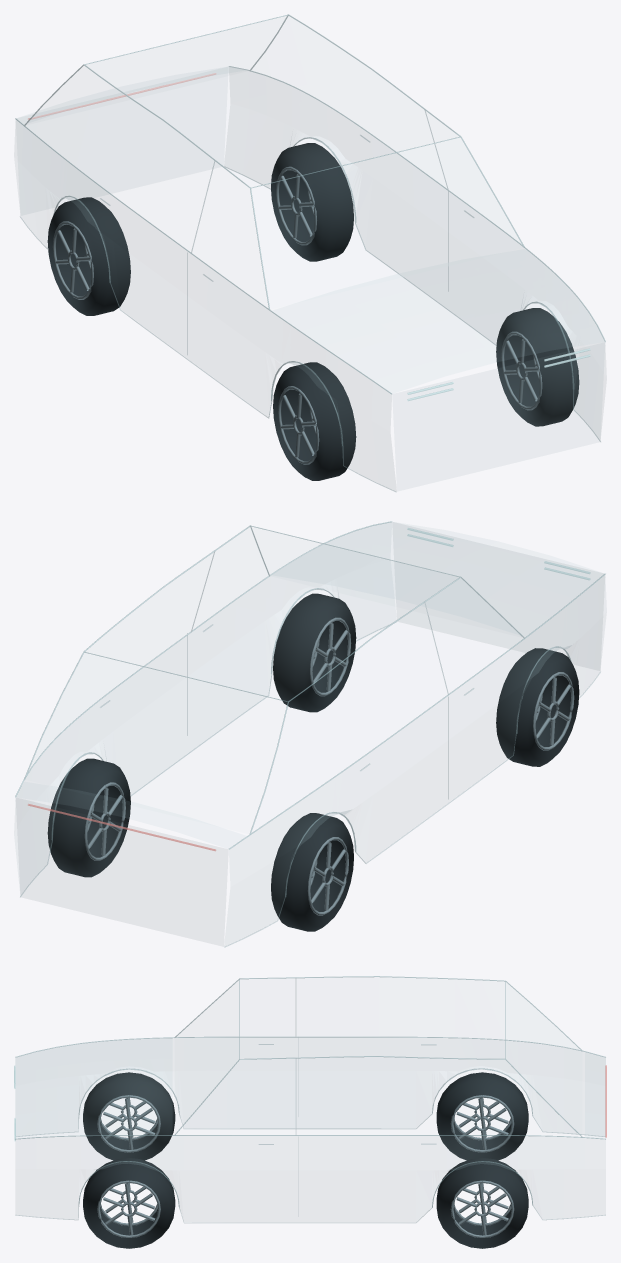
The model's file is genesis_gv80.glb.
3 renders of one model, top to bottom at view 1: azimuth 30°, elevation 25°; view 2: azimuth 150°, elevation 25°; view 3: azimuth 270°, elevation 25°, orthographic. The views are drawn at different scales.
Parts seen in each view (by area): view 1: shell_body, shell_tyre_right_front, shell_tyre_right_rear, shell_tyre_left_rear, shell_tyre_left_front, shell_contours, shell_details, shell_rim_left_front, shell_rim_right_front, shell_rim_right_rear, shell_rim_left_rear; view 2: shell_body, shell_tyre_right_front, shell_tyre_left_rear, shell_tyre_left_front, shell_tyre_right_rear, shell_contours, shell_details, shell_rim_left_rear, shell_rim_right_rear, shell_rim_left_front, shell_rim_right_front; view 3: shell_body, shell_tyre_left_rear, shell_tyre_left_front, shell_tyre_right_rear, shell_tyre_right_front, shell_contours, shell_rim_right_front, shell_rim_left_front, shell_rim_right_rear, shell_rim_left_rear, shell_details.
Part boxes in pixels (left/top/right/bottom): shell_body: left=16, top=67, right=604, bottom=458; shell_tyre_right_front: left=273, top=362, right=356, bottom=480; shell_tyre_right_rear: left=47, top=197, right=130, bottom=315; shell_tyre_left_rear: left=271, top=143, right=353, bottom=261; shell_tyre_left_front: left=496, top=308, right=579, bottom=426; shell_contours: left=15, top=14, right=605, bottom=445; shell_details: left=20, top=110, right=600, bottom=491; shell_rim_left_front: left=501, top=331, right=542, bottom=410; shell_rim_right_front: left=278, top=386, right=319, bottom=464; shell_rim_right_rear: left=52, top=221, right=93, bottom=299; shell_rim_left_rear: left=276, top=166, right=316, bottom=245; shell_body: left=16, top=522, right=604, bottom=896; shell_tyre_right_front: left=496, top=648, right=579, bottom=766; shell_tyre_left_rear: left=47, top=758, right=130, bottom=877; shell_tyre_left_front: left=273, top=593, right=356, bottom=712; shell_tyre_right_rear: left=271, top=813, right=353, bottom=931; shell_contours: left=15, top=521, right=605, bottom=896; shell_details: left=20, top=552, right=600, bottom=947; shell_rim_left_rear: left=84, top=782, right=125, bottom=860; shell_rim_right_rear: left=307, top=837, right=348, bottom=915; shell_rim_left_front: left=310, top=617, right=351, bottom=696; shell_rim_right_front: left=533, top=672, right=574, bottom=750; shell_body: left=15, top=1038, right=605, bottom=1171; shell_tyre_left_rear: left=436, top=1157, right=528, bottom=1248; shell_tyre_left_front: left=83, top=1158, right=175, bottom=1248; shell_tyre_right_rear: left=436, top=1072, right=528, bottom=1160; shell_tyre_right_front: left=83, top=1072, right=175, bottom=1160; shell_contours: left=15, top=976, right=605, bottom=1207; shell_rim_right_front: left=97, top=1095, right=160, bottom=1152; shell_rim_left_front: left=97, top=1180, right=160, bottom=1237; shell_rim_right_rear: left=450, top=1095, right=514, bottom=1152; shell_rim_left_rear: left=450, top=1180, right=514, bottom=1237; shell_details: left=15, top=1044, right=605, bottom=1222.
Bounding box in the file's own units: 1.98 × 1.72 × 4.96.
